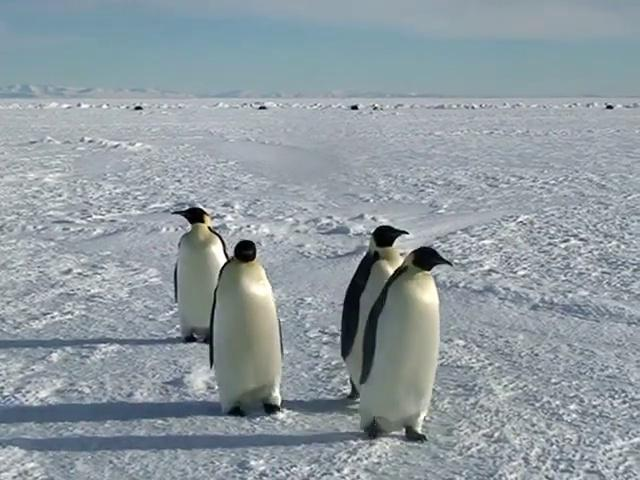animal: (359, 247, 450, 441)
